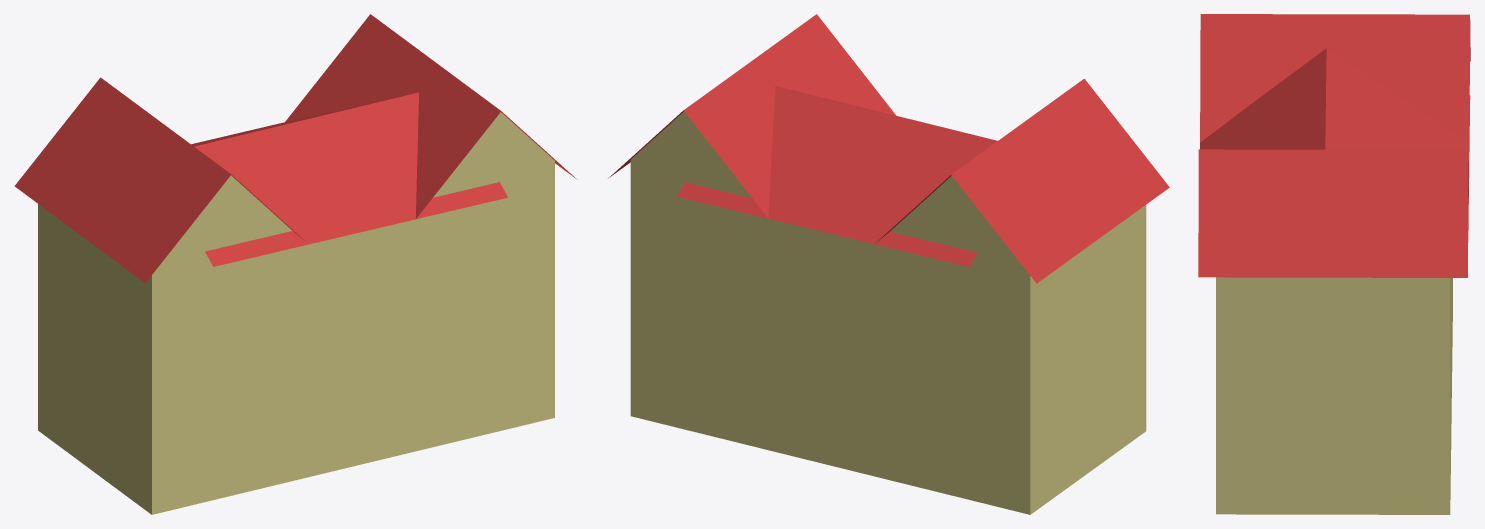
The picture shows the model from 3 angles, left to right: view 1: azimuth 30°, elevation 25°; view 2: azimuth 150°, elevation 25°; view 3: azimuth 270°, elevation 25°; orthographic projection. The views are drawn at different scales.
Parts seen in each view (by area): view 1: group_5, group_9, group_7, group_3, group_13, group_11, group_4, group_12, group_8; view 2: group_5, group_9, group_7, group_3, group_13, group_11, group_4, group_12; view 3: group_13, group_11, group_3, group_7, group_4, group_12, group_9.
Boxes of the visible parts, x1,y1,x2,y2 form: group_5: [38, 175, 299, 514]; group_9: [300, 199, 499, 479]; group_7: [191, 92, 507, 266]; group_3: [14, 77, 306, 283]; group_13: [433, 112, 554, 430]; group_11: [285, 14, 576, 219]; group_4: [16, 78, 230, 282]; group_12: [286, 14, 574, 177]; group_8: [206, 185, 483, 265]; group_5: [883, 176, 1146, 514]; group_9: [685, 198, 883, 478]; group_7: [677, 86, 997, 266]; group_3: [875, 78, 1169, 283]; group_13: [630, 111, 751, 429]; group_11: [608, 14, 895, 217]; group_4: [907, 80, 1166, 281]; group_12: [624, 104, 769, 217]; group_13: [1216, 277, 1450, 514]; group_11: [1198, 149, 1468, 277]; group_3: [1200, 14, 1470, 142]; group_7: [1200, 48, 1470, 242]; group_4: [1200, 14, 1470, 141]; group_12: [1198, 149, 1468, 277]; group_9: [1450, 278, 1451, 473].
Bounding box in the file's own units: 21.63 × 11.57 × 15.74.
